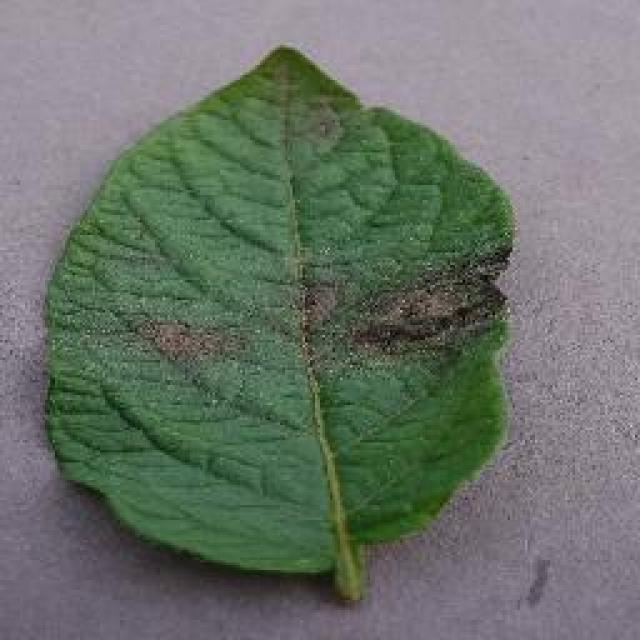late_blight: (38, 40, 520, 592)
